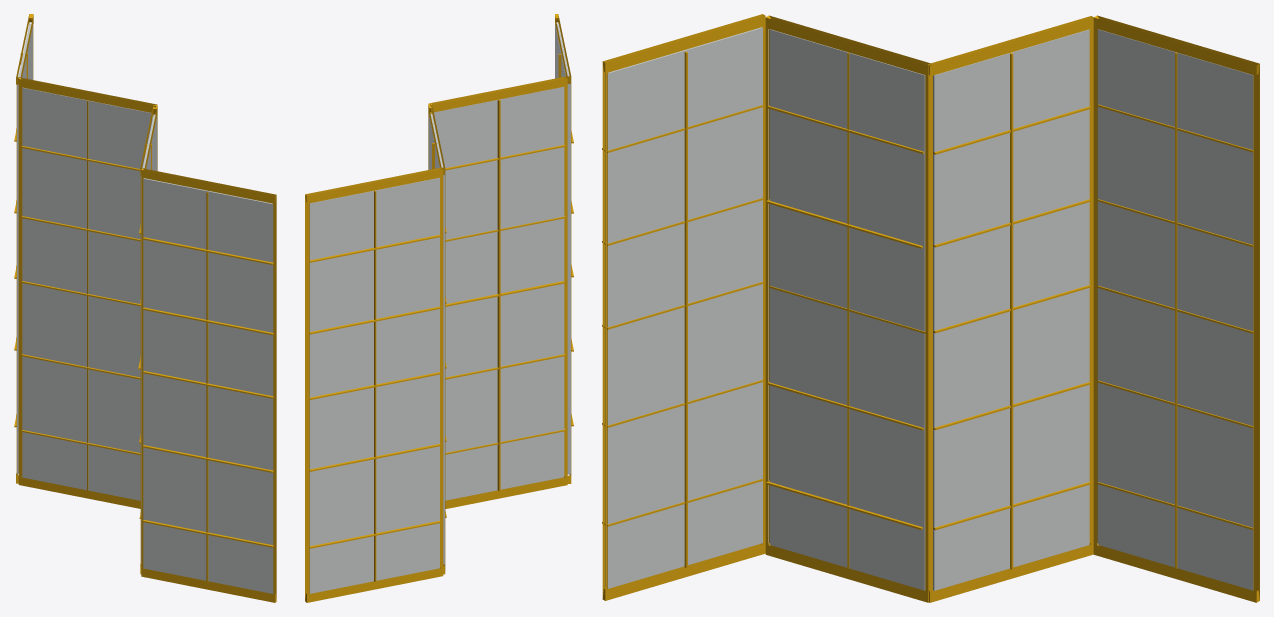
File: paravent.fbx
3 renders of one model, left to right at view 1: azimuth 30°, elevation 25°; view 2: azimuth 150°, elevation 25°; view 3: azimuth 270°, elevation 25°, orthographic. The views are drawn at different scales.
Parts seen in each view (by area): view 1: Cube.003, Cube.001, Cube.007, Cube.005, Cube, Ligne.034, Cube.002, Cube.004, Cube.006, Ligne.006, Ligne.036, Ligne.038 (+3 smaller); view 2: Cube, Cube.002, Cube.004, Cube.006, Cube.003, Ligne.012, Cube.001, Ligne.040, Cube.005, Cube.007, Ligne.002, Ligne.001 (+4 smaller); view 3: Cube.002, Cube, Cube.003, Cube.001, Cube.004, Cube.005, Cube.006, Cube.007, Ligne.006, Ligne.034, Ligne.040, Ligne.012.
Part boxes in pixels (x1,y1,x2,y2): Cube.003: (143, 178, 273, 593); Cube.001: (22, 87, 152, 500); Cube.007: (141, 168, 276, 602); Cube.005: (18, 77, 157, 508); Cube: (17, 23, 32, 473); Ligne.034: (206, 192, 208, 582); Cube.002: (141, 114, 157, 564); Cube.004: (16, 14, 33, 483); Cube.006: (140, 105, 157, 574); Ligne.006: (87, 100, 88, 490); Ligne.036: (142, 237, 273, 264); Ligne.038: (142, 520, 273, 547); Cube: (309, 177, 439, 593); Cube.002: (434, 87, 564, 500); Cube.004: (305, 167, 443, 602); Cube.006: (429, 76, 567, 508); Cube.003: (555, 23, 570, 474); Ligne.012: (497, 99, 500, 491); Cube.001: (428, 113, 444, 564); Ligne.040: (374, 190, 376, 581); Cube.005: (428, 103, 445, 574); Cube.007: (555, 14, 571, 483); Ligne.002: (309, 306, 440, 334); Ligne.001: (309, 372, 440, 399); Cube.002: (769, 29, 925, 590); Cube: (1097, 29, 1253, 590); Cube.003: (605, 27, 762, 588); Cube.001: (933, 29, 1089, 590); Cube.004: (1093, 15, 1259, 602); Cube.005: (927, 16, 1093, 602); Cube.006: (765, 15, 931, 602); Cube.007: (602, 14, 765, 600); Ligne.006: (1010, 52, 1013, 569); Ligne.034: (684, 51, 687, 568); Ligne.040: (1175, 52, 1177, 568); Ligne.012: (847, 52, 849, 568).
Bounding box in the file's own units: 129 × 626 × 694.
